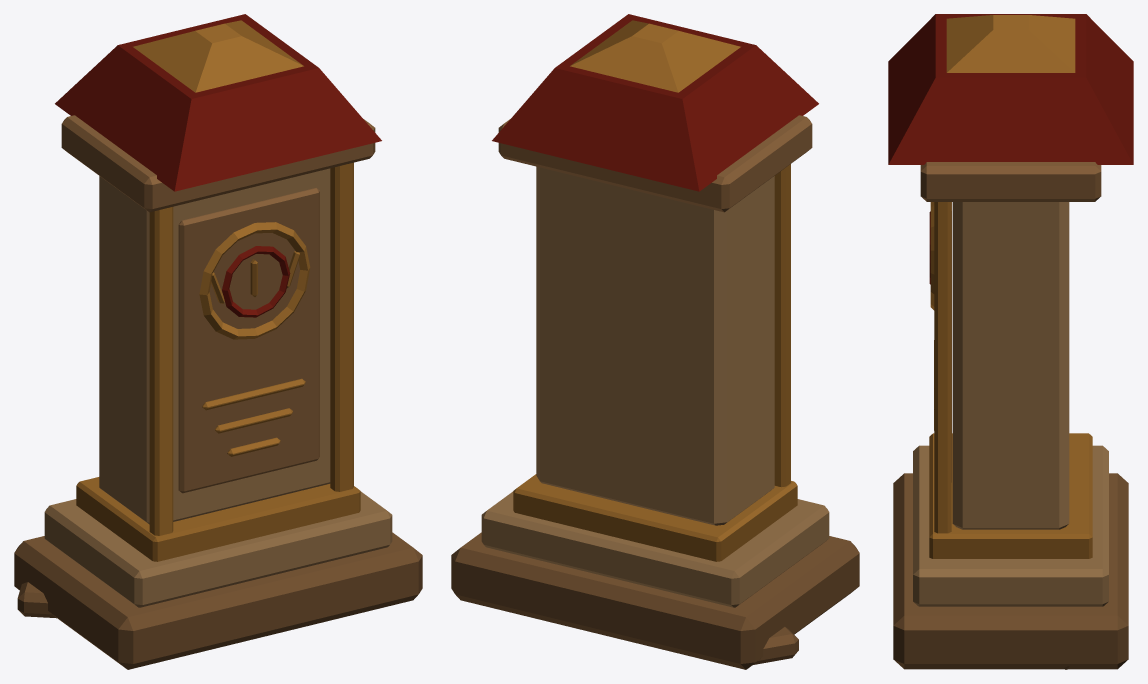
File: BO_SM_Prop_DesertReliquary_v002.glb
3 renders of one model, left to right at view 1: azimuth 30°, elevation 25°; view 2: azimuth 150°, elevation 25°; view 3: azimuth 270°, elevation 25°, orthographic. The views are drawn at different scales.
Visible parts, largest first — view 1: SM_Prop_DesertReliquary_LOD0; view 2: SM_Prop_DesertReliquary_LOD0; view 3: SM_Prop_DesertReliquary_LOD0.
Part boxes in pixels (x1=…): SM_Prop_DesertReliquary_LOD0: x1=14, y1=14, x2=422, y2=669; SM_Prop_DesertReliquary_LOD0: x1=451, y1=14, x2=859, y2=669; SM_Prop_DesertReliquary_LOD0: x1=888, y1=14, x2=1133, y2=669.
Size of what is drawn, in the model's own units: 1.54 by 2.57 by 0.9899.
